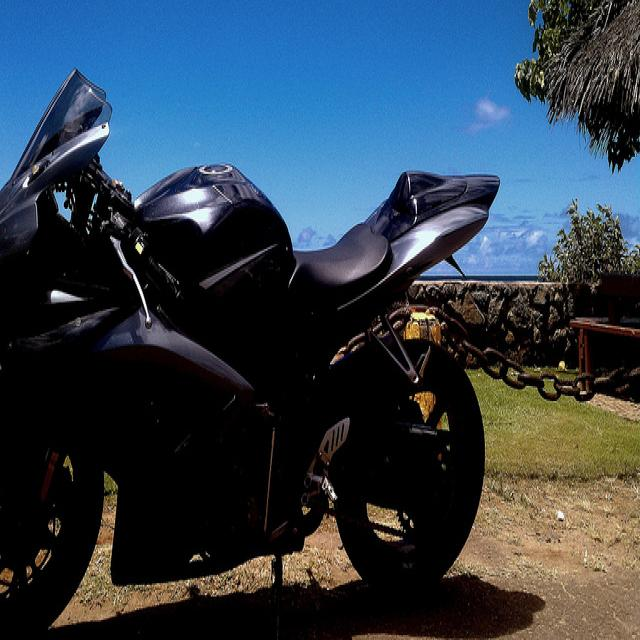motor: (0, 66, 500, 627)
